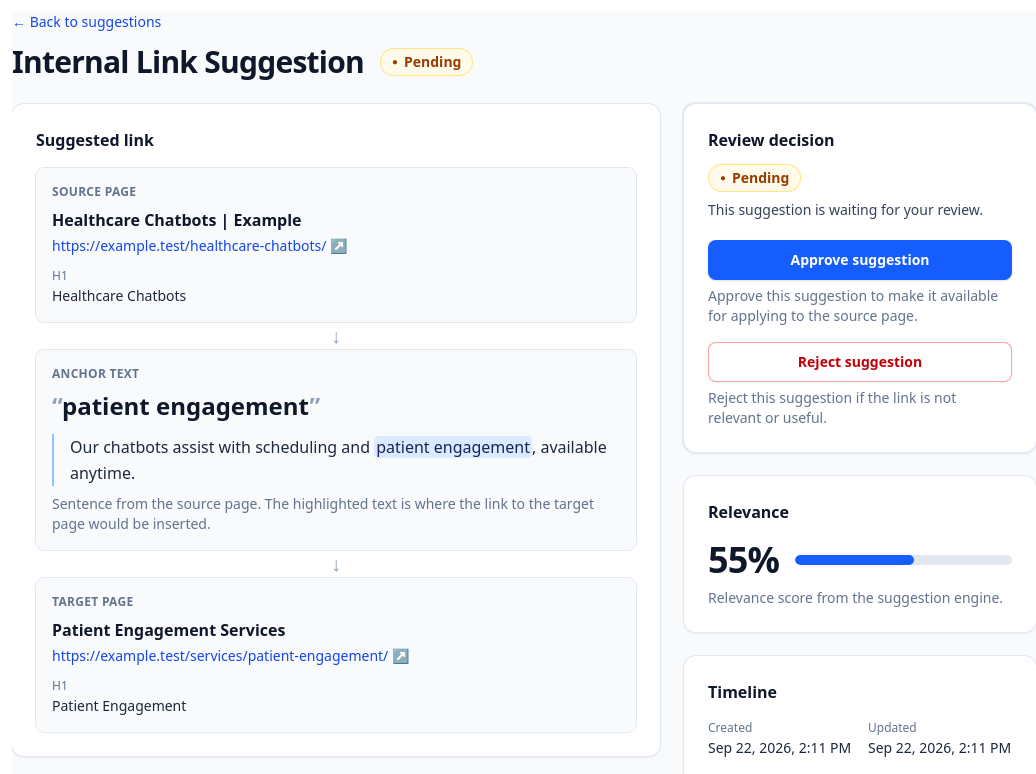
Scenario: approve › explains a 409 and refreshes to the current status
The width and height of the screenshot is (1036, 774).
Click the button "Approve suggestion". click: click(860, 260)
box: [708, 240, 1012, 280]
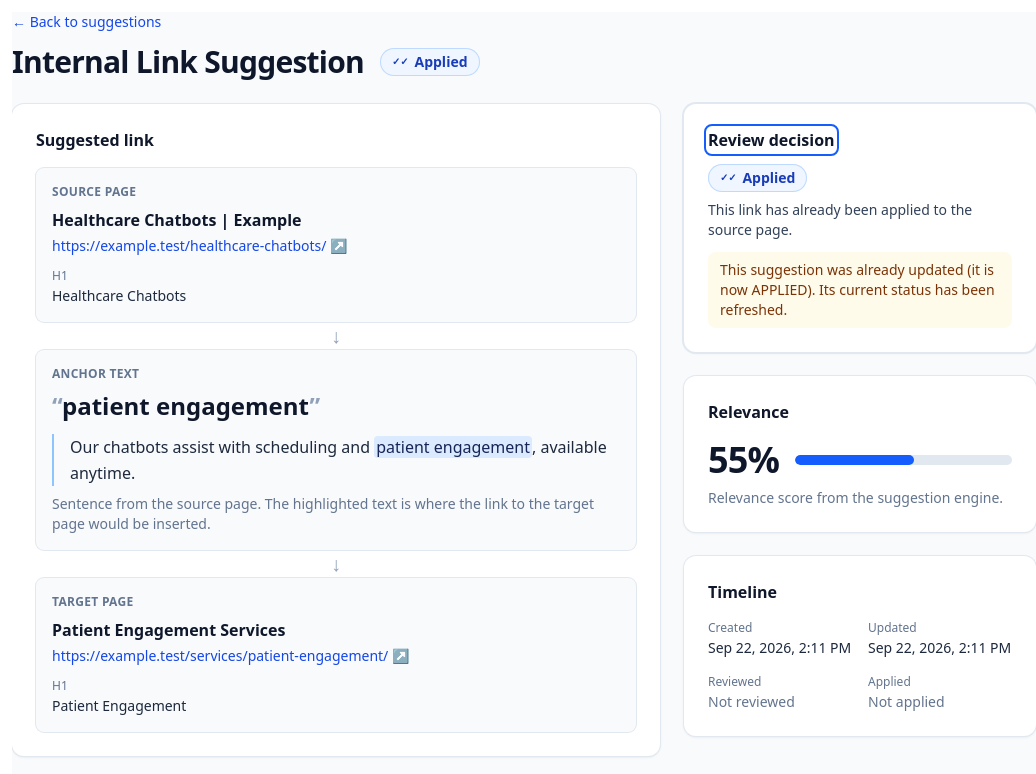
Expected: the text "This suggestion was already updated (it is now APPLIED). Its current status has been refreshed." is shown, [720, 260, 995, 319]
Expected: the text "✓✓ Applied" next to "Internal Link Suggestion" is shown, [414, 52, 468, 71]
Expected: no buttons are shown
